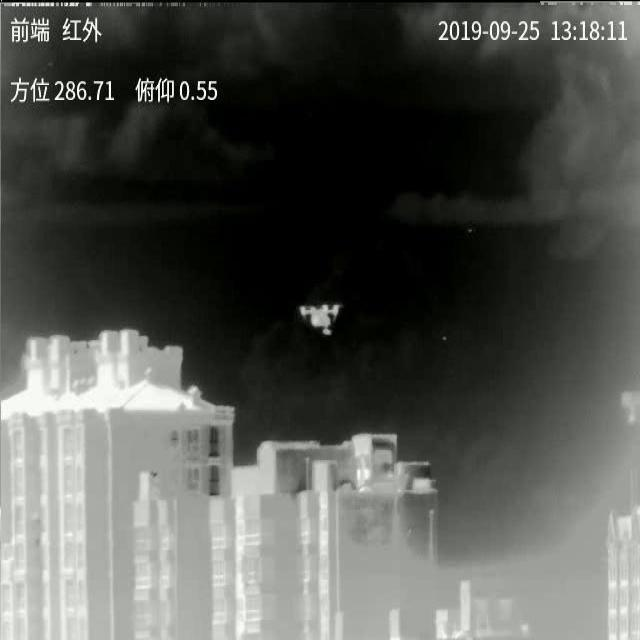drone: (299, 303, 342, 335)
